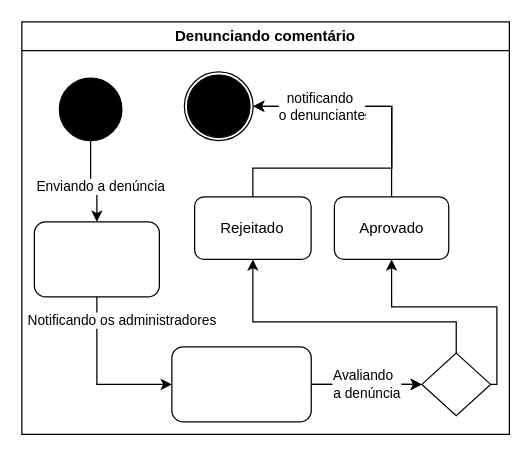
The diagram is 531 pixels wide and 456 high, and some of its shapes have lost their labels. Each missing label, with the centre of its shape:
"Em revisão" goes at point (241, 384).
"Pendente" goes at point (96, 259).
